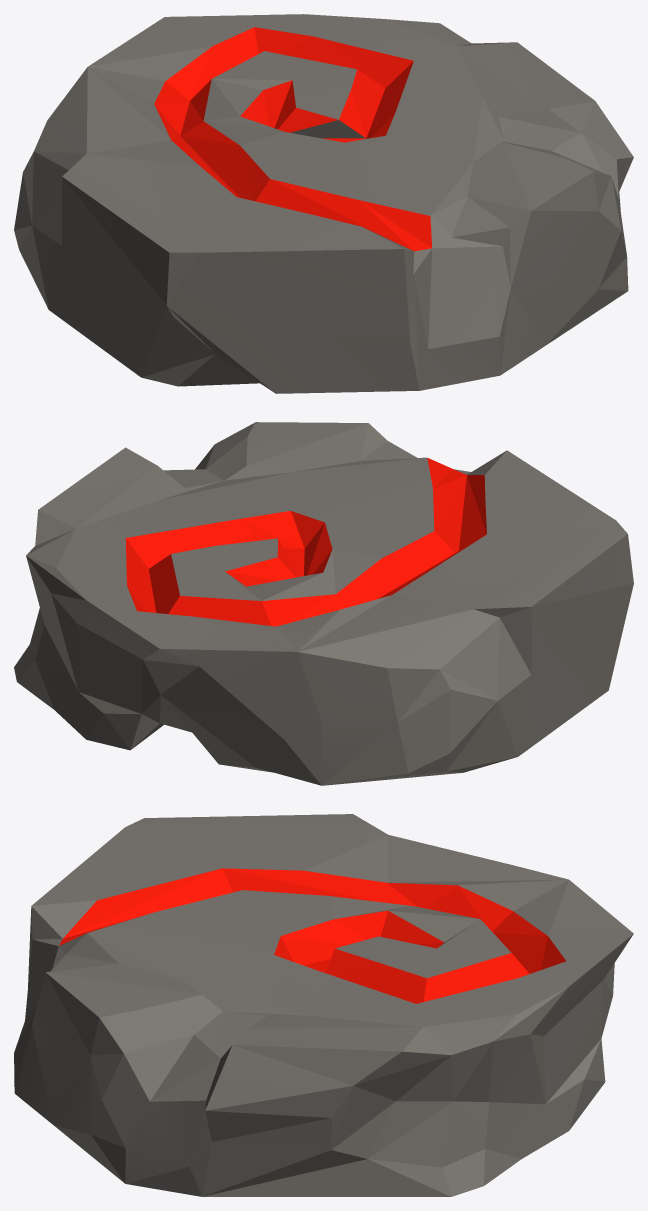
File: SM_Env_Rune_Rounded_01.obj
The picture shows the model from 3 angles, top to bottom: view 1: azimuth 30°, elevation 25°; view 2: azimuth 150°, elevation 25°; view 3: azimuth 270°, elevation 25°; orthographic projection. The views are drawn at different scales.
Parts seen in each view (by area): view 1: SM_Env_Rune_Rounded_01; view 2: SM_Env_Rune_Rounded_01; view 3: SM_Env_Rune_Rounded_01.
Boxes of the visible parts, box(x1,y1,x2,y2) form: SM_Env_Rune_Rounded_01: box(14, 14, 633, 393); SM_Env_Rune_Rounded_01: box(14, 422, 633, 785); SM_Env_Rune_Rounded_01: box(14, 814, 633, 1196).
Bounding box in the file's own units: 0.5848 × 0.1647 × 0.6202.
